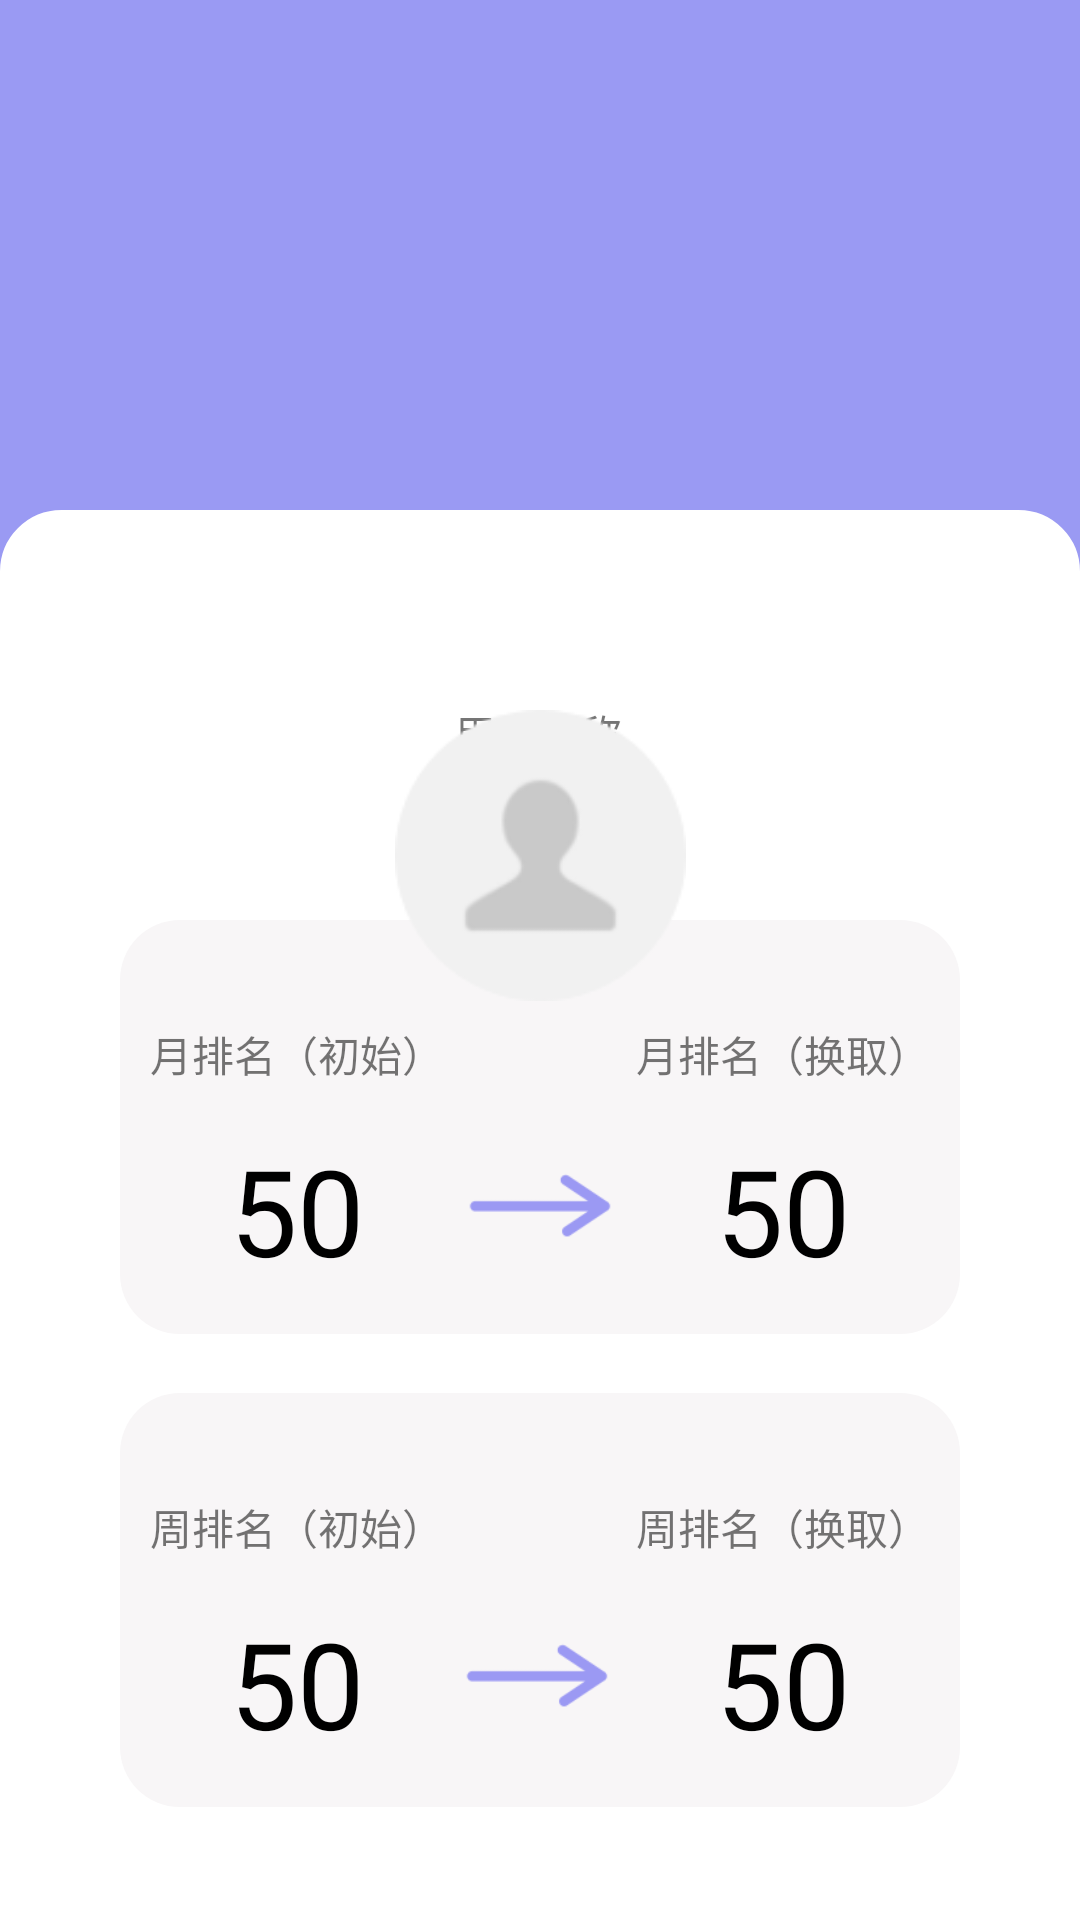

Screen size 1080 x 1920. Icon name, then its box in pixels as (x1, y1, x2, y2):
arrow: (470, 1175, 610, 1237), (467, 1645, 607, 1707)
user profile: (395, 710, 686, 1001)
